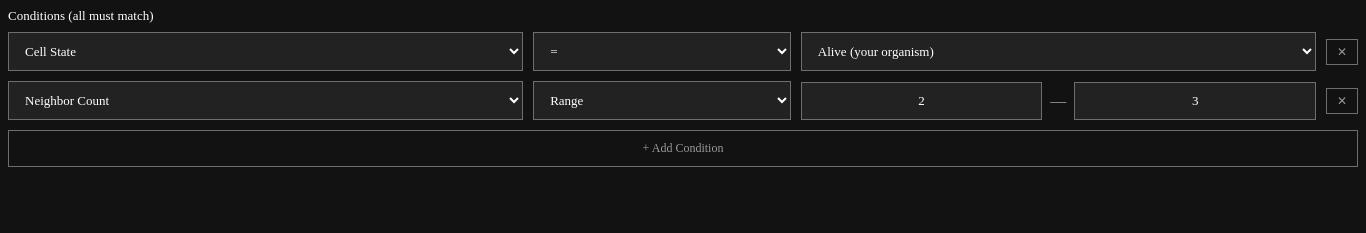
Test: ConditionsEditor › add appends, keeps the earlier drafts by reference, and focuses the new row
What coordinates should you click on to do the following:
click the button "+ Add Condition"
I would click on:
 (683, 148)
Its box is [8,130,1358,167].
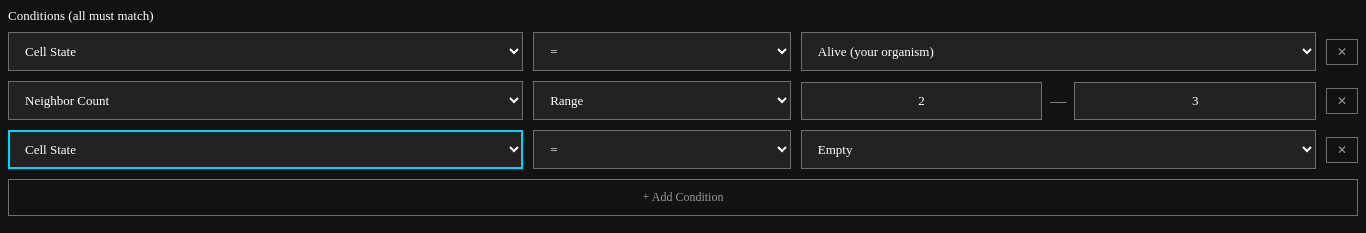
Expected: the number of dropdowns named "Condition 1 property" is 3, [8,32,523,71]; [8,81,523,120]; [8,130,523,169]
